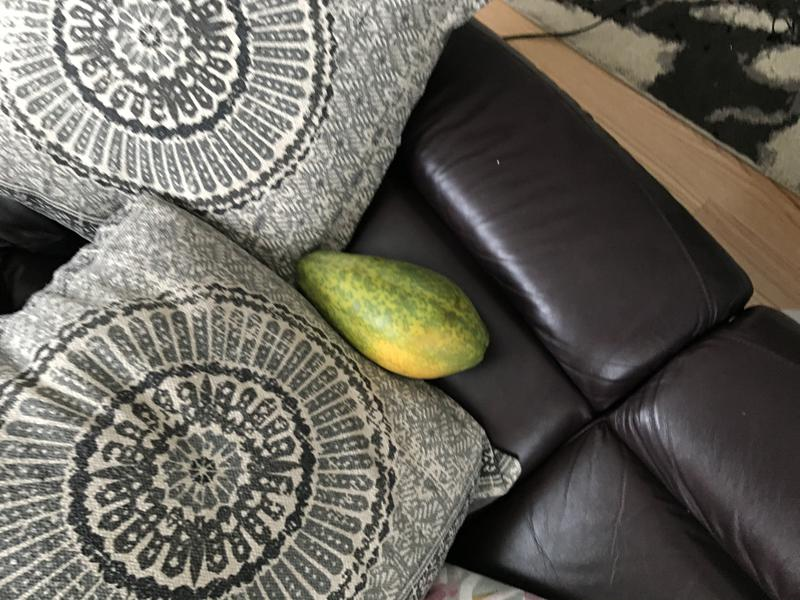papaya: (291, 241, 498, 387)
